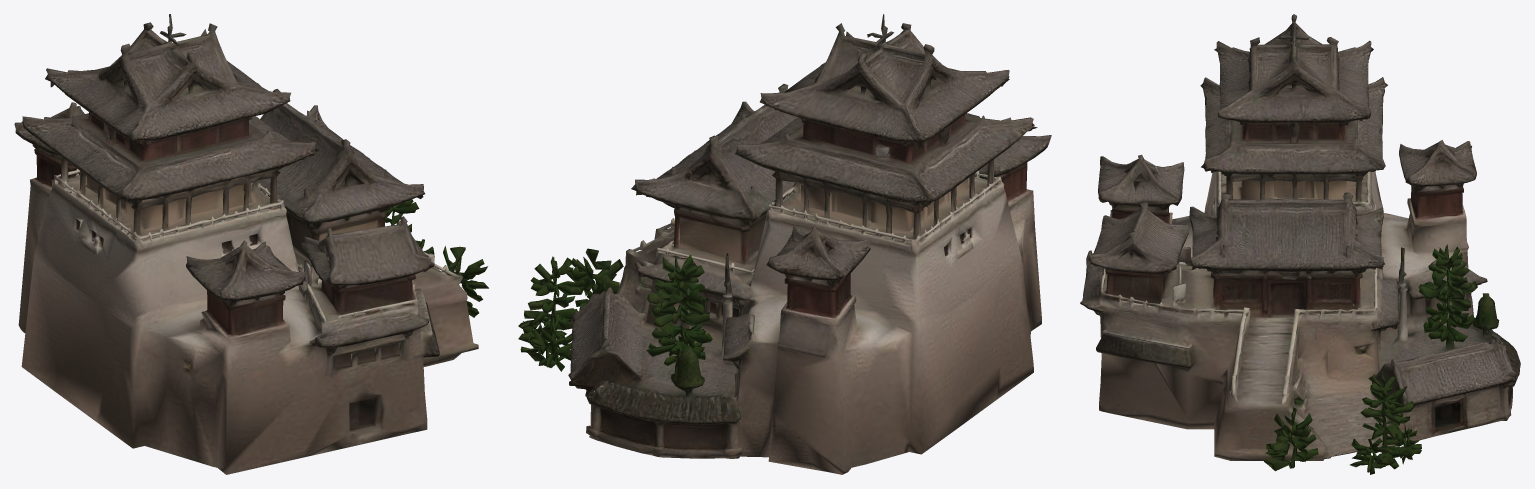
File: building-longmensi.glb
The picture shows the model from 3 angles, left to right: view 1: azimuth 30°, elevation 25°; view 2: azimuth 150°, elevation 25°; view 3: azimuth 270°, elevation 25°; orthographic projection. The views are drawn at different scales.
Parts seen in each view (by area): view 1: node_747b9433-ebda-4028-a4d0-600816fdf59f; view 2: node_747b9433-ebda-4028-a4d0-600816fdf59f; view 3: node_747b9433-ebda-4028-a4d0-600816fdf59f.
Part boxes in pixels (x1,y1,x2,y2): node_747b9433-ebda-4028-a4d0-600816fdf59f: [14, 14, 488, 474]; node_747b9433-ebda-4028-a4d0-600816fdf59f: [518, 14, 1051, 474]; node_747b9433-ebda-4028-a4d0-600816fdf59f: [1080, 14, 1520, 474].
Size of the model in its own units: 0.9652 by 0.8274 by 1.
Materials: 1 (1 with a texture image).
